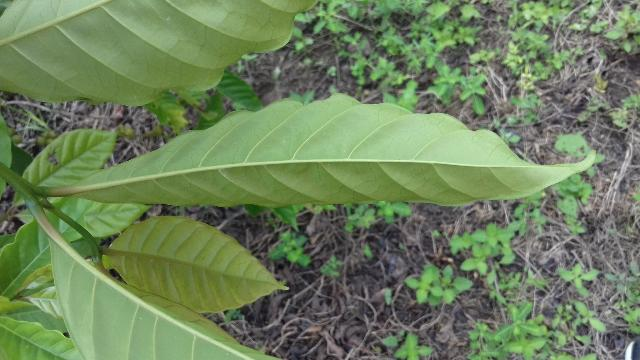healthy: (73, 95, 592, 207)
